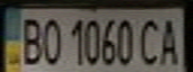0: (115, 15, 139, 66), (81, 15, 103, 66)
1: (63, 15, 84, 66)
6: (100, 15, 121, 66)
A: (154, 14, 184, 66)
B: (15, 12, 45, 66)
C: (136, 15, 163, 66)
O: (39, 14, 63, 66)
